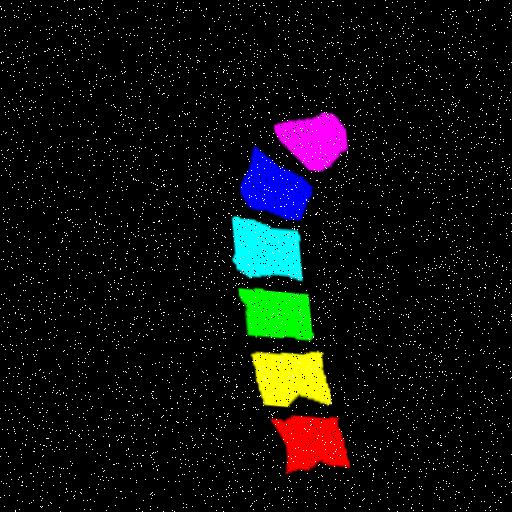L1: (265, 409, 340, 466)
L2: (246, 344, 321, 400)
L3: (234, 283, 307, 332)
L4: (228, 212, 298, 271)
L5: (236, 142, 309, 213)
S1: (272, 105, 345, 164)
